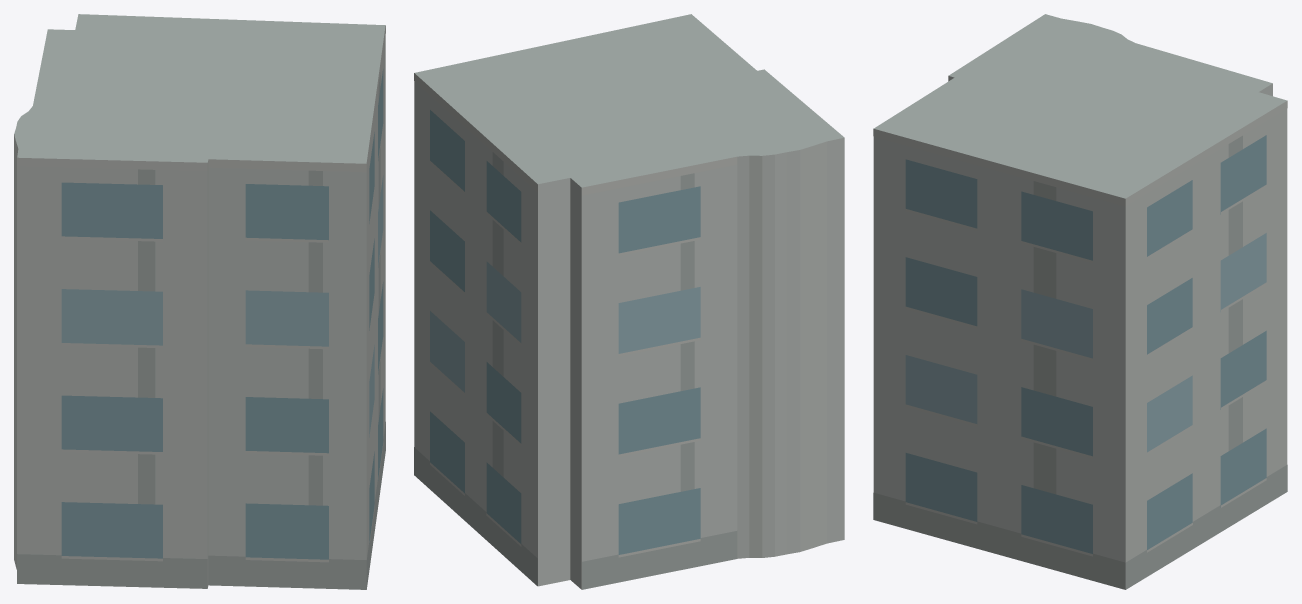
File: residential-b17c2d5f-c145-4f0f-9dbb-415efc2eb3f4.glb
3 renders of one model, left to right at view 1: azimuth 30°, elevation 25°; view 2: azimuth 150°, elevation 25°; view 3: azimuth 270°, elevation 25°, orthographic. The views are drawn at different scales.
Parts seen in each view (by area): view 1: residential-b17c2d5f-c145-4f0f-9dbb-415efc2eb3f4.tmp; view 2: residential-b17c2d5f-c145-4f0f-9dbb-415efc2eb3f4.tmp; view 3: residential-b17c2d5f-c145-4f0f-9dbb-415efc2eb3f4.tmp.
Boxes of the visible parts, box(x1,y1,x2,y2) form: residential-b17c2d5f-c145-4f0f-9dbb-415efc2eb3f4.tmp: box(14, 14, 385, 589); residential-b17c2d5f-c145-4f0f-9dbb-415efc2eb3f4.tmp: box(414, 14, 844, 589); residential-b17c2d5f-c145-4f0f-9dbb-415efc2eb3f4.tmp: box(873, 14, 1287, 589).
Size of the model in its own units: 12.36 by 12.2 by 11.71.
